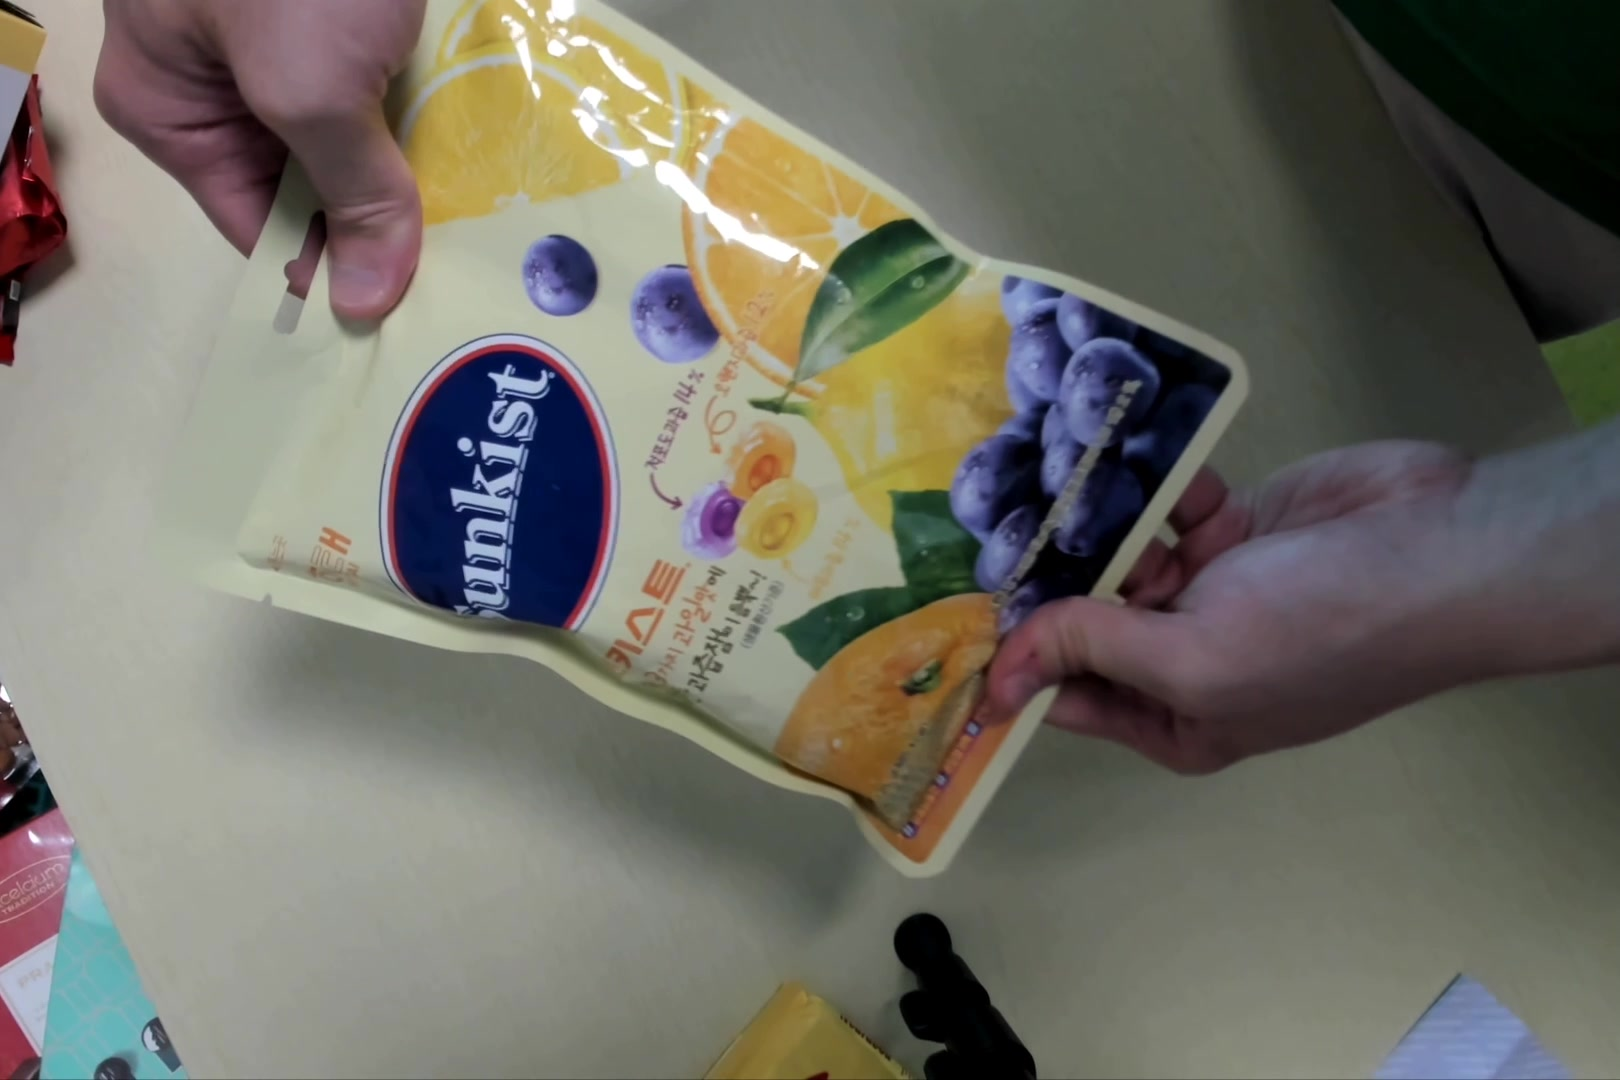SweetsChocolatesOthers_100-199g_NonHalal_NonHealthy: (178, 6, 1254, 877)
